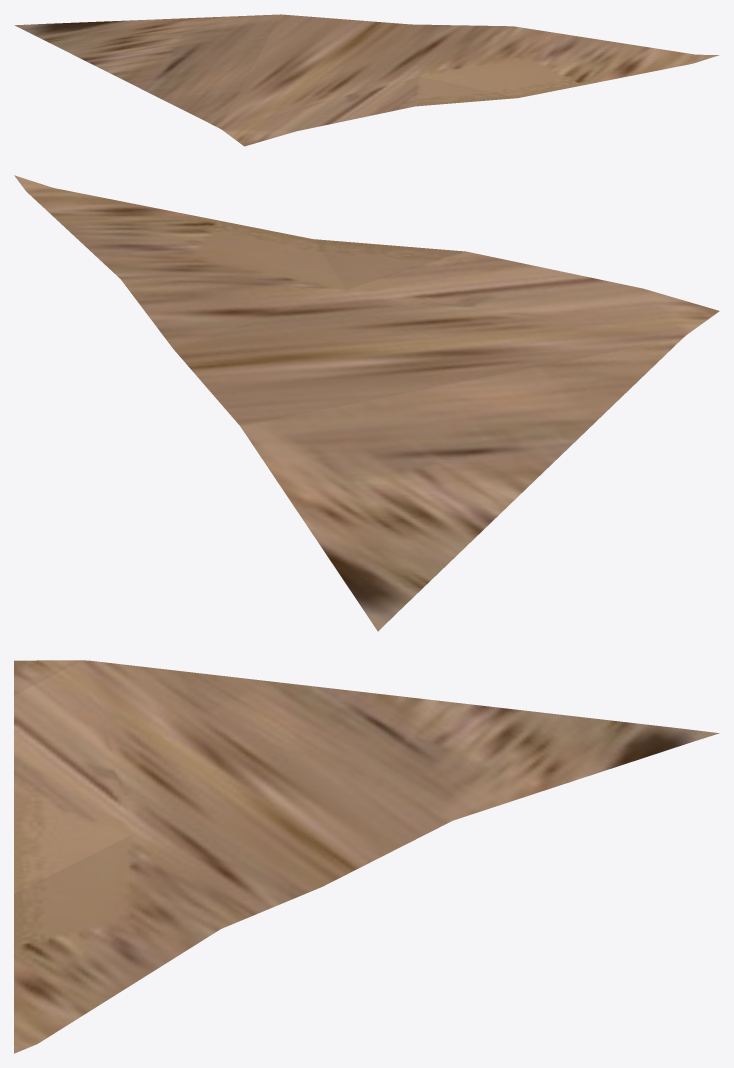
3 views of the same model, one above another, from view 1: azimuth 30°, elevation 25°; view 2: azimuth 150°, elevation 25°; view 3: azimuth 270°, elevation 25° (orthographic). The views are drawn at different scales.
Bounding box in the file's own units: 1.78 × 0.1782 × 1.49.
1 material, 1 textured.
